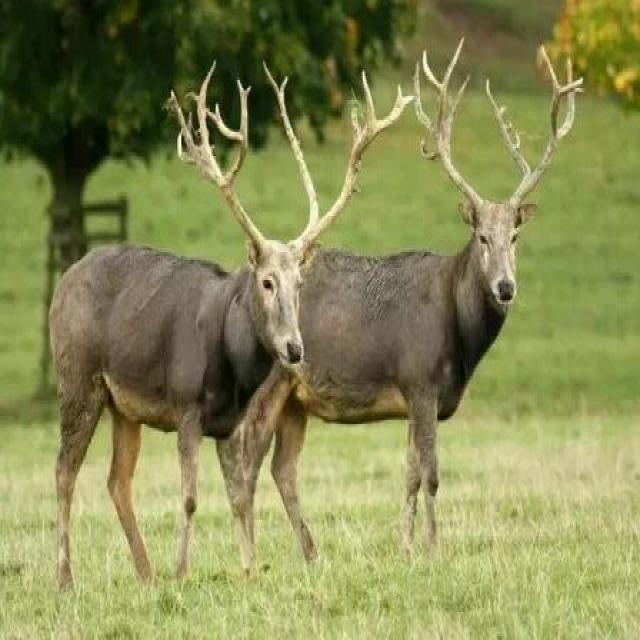deer: (28, 138, 357, 567), (277, 112, 588, 500)
